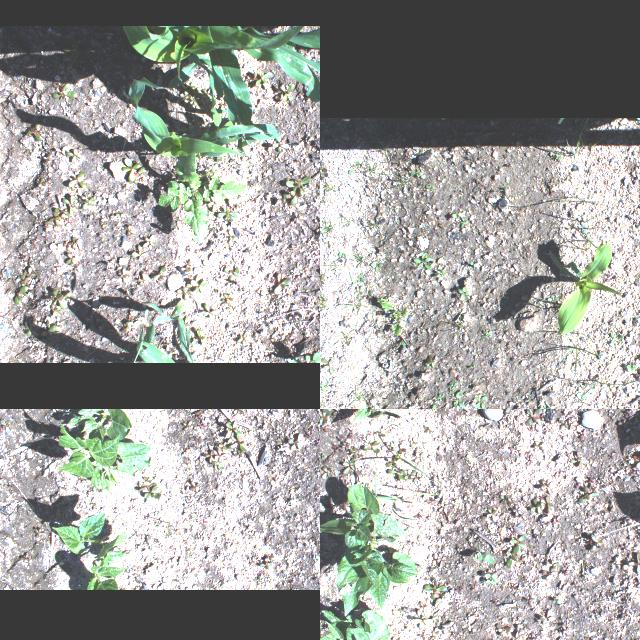crop: (120, 25, 320, 134), (320, 485, 419, 617), (132, 106, 282, 158), (547, 241, 621, 337), (132, 301, 194, 363), (52, 512, 126, 560), (56, 423, 120, 477), (90, 442, 150, 492), (65, 409, 130, 444), (320, 609, 388, 640), (86, 550, 126, 590)
weed: (156, 156, 246, 244), (559, 332, 603, 378), (566, 119, 604, 155), (583, 379, 640, 394), (120, 158, 150, 184), (42, 204, 66, 228), (356, 160, 392, 176), (389, 306, 407, 336), (51, 80, 77, 100), (48, 288, 74, 308), (211, 203, 237, 223), (450, 309, 470, 335), (284, 348, 320, 362), (137, 483, 161, 503), (283, 178, 309, 196), (66, 170, 86, 193), (411, 610, 433, 630), (552, 192, 588, 204), (40, 315, 60, 335), (76, 194, 98, 212), (13, 283, 31, 305), (188, 278, 210, 296), (320, 179, 338, 201), (274, 272, 290, 296), (60, 193, 76, 217), (24, 122, 42, 142), (18, 266, 36, 286), (506, 546, 522, 568), (424, 585, 446, 601), (222, 263, 240, 281), (413, 252, 431, 270), (224, 420, 242, 438), (121, 318, 141, 334), (251, 70, 271, 86), (352, 252, 372, 268), (473, 548, 493, 564), (578, 487, 598, 503), (24, 316, 38, 338), (228, 434, 245, 452), (279, 82, 293, 102), (336, 212, 350, 232), (288, 432, 302, 452), (64, 147, 80, 163), (175, 284, 191, 300), (525, 409, 541, 425), (320, 218, 335, 235), (130, 243, 148, 257), (192, 328, 206, 346), (374, 296, 392, 310), (539, 495, 553, 513), (404, 469, 421, 483), (386, 177, 404, 190), (362, 441, 380, 454), (629, 552, 640, 573), (150, 266, 166, 280), (116, 267, 130, 283), (202, 304, 216, 320), (282, 190, 296, 206), (140, 235, 156, 249), (320, 358, 334, 374), (155, 523, 171, 537), (510, 534, 526, 548), (530, 498, 544, 514), (341, 458, 355, 474), (271, 140, 293, 150), (136, 268, 148, 286), (387, 470, 405, 482), (226, 232, 237, 250), (122, 223, 136, 237), (610, 330, 624, 344), (232, 333, 248, 345), (458, 286, 470, 302), (214, 448, 226, 464), (258, 558, 274, 570), (454, 390, 464, 408), (474, 396, 487, 409), (64, 254, 76, 268), (370, 258, 382, 272), (204, 448, 216, 462), (349, 274, 365, 284), (348, 158, 358, 174), (0, 419, 10, 435), (35, 176, 47, 188), (484, 573, 496, 585), (386, 455, 398, 467), (220, 292, 234, 302), (321, 466, 331, 479), (426, 356, 436, 368), (410, 167, 422, 177), (190, 481, 200, 493), (33, 529, 45, 539), (413, 452, 425, 462), (320, 409, 327, 426), (187, 96, 200, 105), (69, 236, 77, 250), (355, 285, 363, 299), (227, 432, 237, 443), (212, 462, 224, 471), (177, 91, 187, 101), (182, 421, 192, 431), (221, 304, 237, 310), (49, 310, 61, 318), (424, 183, 436, 191), (626, 363, 636, 372), (459, 217, 468, 227), (218, 442, 228, 451), (481, 330, 492, 338), (320, 381, 328, 392), (634, 368, 640, 382), (202, 87, 210, 97), (436, 269, 444, 279), (576, 392, 586, 400), (195, 411, 205, 419), (20, 553, 28, 563), (320, 300, 326, 313), (636, 451, 640, 470), (546, 296, 558, 302), (320, 273, 325, 287), (448, 382, 456, 390), (194, 436, 202, 444), (113, 212, 123, 218), (451, 212, 461, 218), (503, 409, 518, 413), (469, 260, 476, 268), (320, 163, 326, 172), (231, 409, 241, 414), (556, 118, 564, 124), (338, 250, 344, 258), (554, 153, 562, 159), (539, 405, 551, 409), (436, 394, 442, 402), (142, 477, 150, 483), (320, 170, 324, 181), (0, 478, 4, 489), (429, 404, 437, 409), (198, 424, 208, 428), (320, 154, 323, 165), (219, 239, 225, 243), (536, 300, 540, 306), (469, 365, 475, 369), (636, 118, 640, 120)
